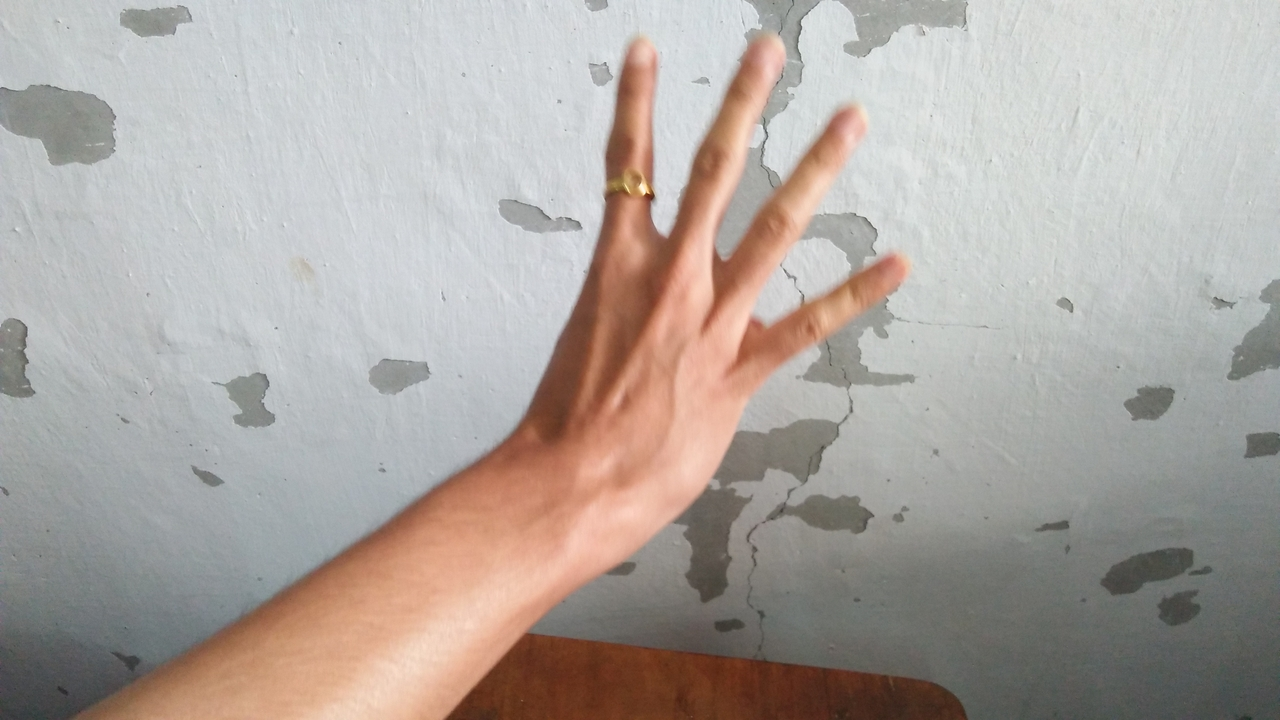fingertip: (808, 90, 884, 148), (850, 238, 924, 292), (734, 24, 794, 72), (614, 30, 664, 76)
